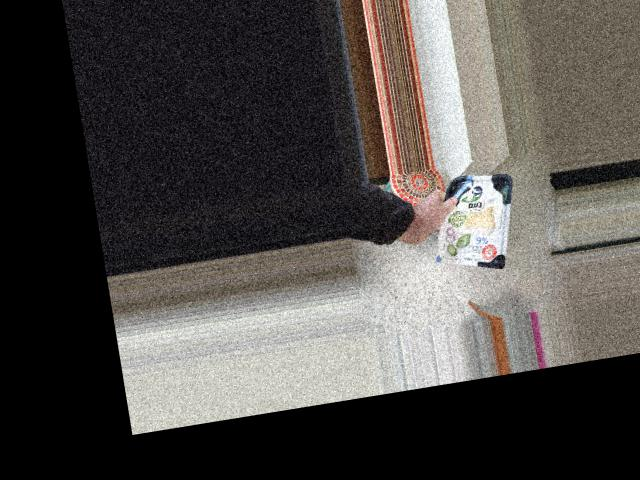cheese: (423, 166, 525, 273)
